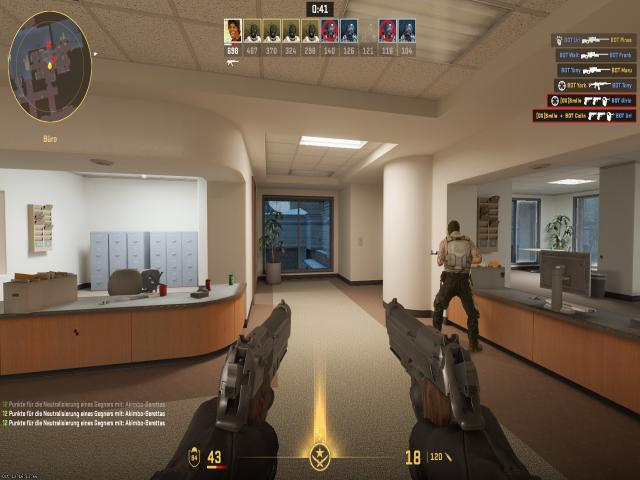T: (437, 219, 476, 340)
T-Head: (446, 219, 461, 239)
